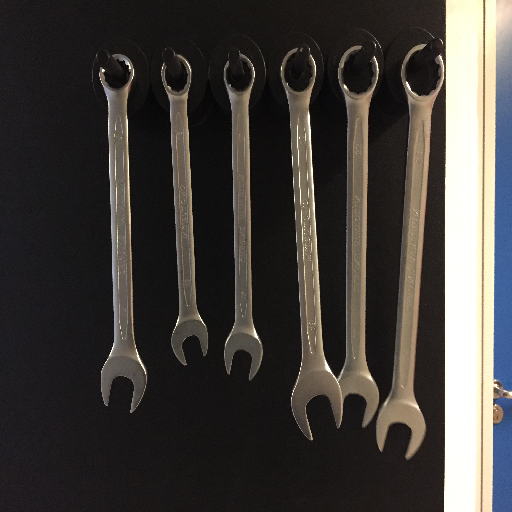bottom: (290, 368, 344, 441), (374, 395, 428, 462), (97, 346, 150, 414), (332, 370, 381, 430), (221, 327, 265, 381), (169, 314, 211, 365)
top: (399, 42, 445, 106), (336, 44, 379, 104), (278, 44, 318, 99), (97, 51, 138, 97), (221, 52, 257, 100), (159, 53, 194, 100)
